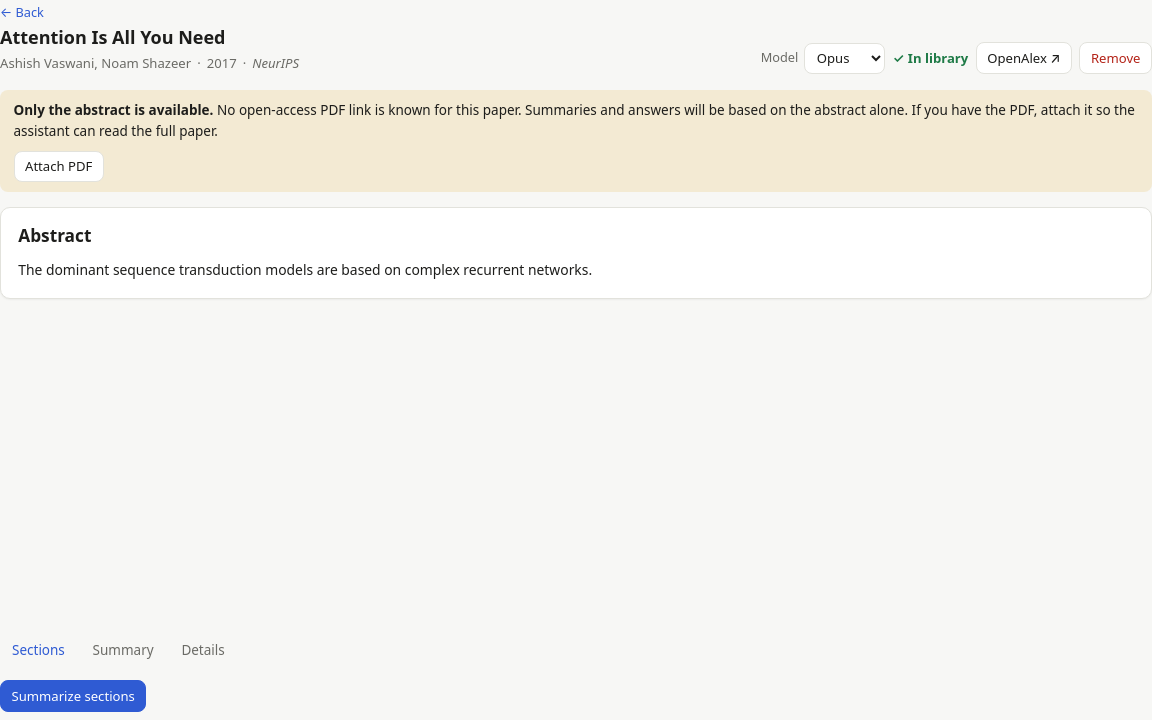
Scenario: PaperPage › does not mention deletion for a library paper
The width and height of the screenshot is (1152, 720).
Click the tab "Details".
click(203, 650)  # box [169,634,237,667]
(page scrolled)
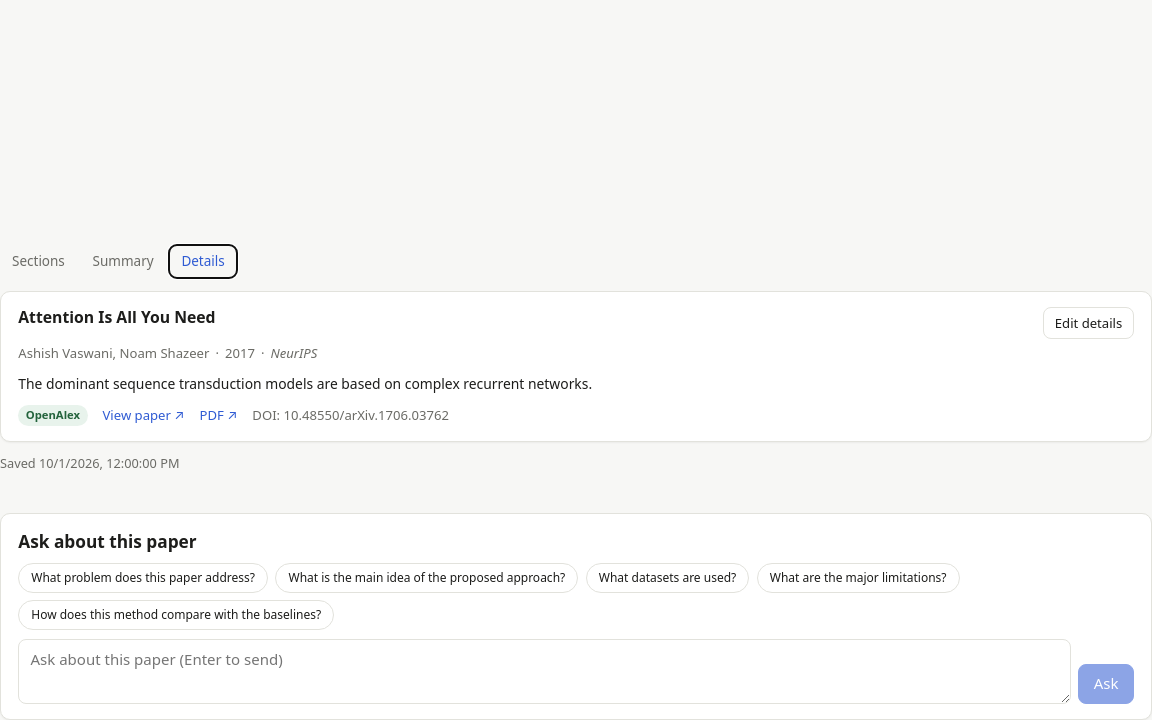
Result: the text "Saved 10/1/2026, 12:00:00 PM" is shown at [0,454,180,472]
